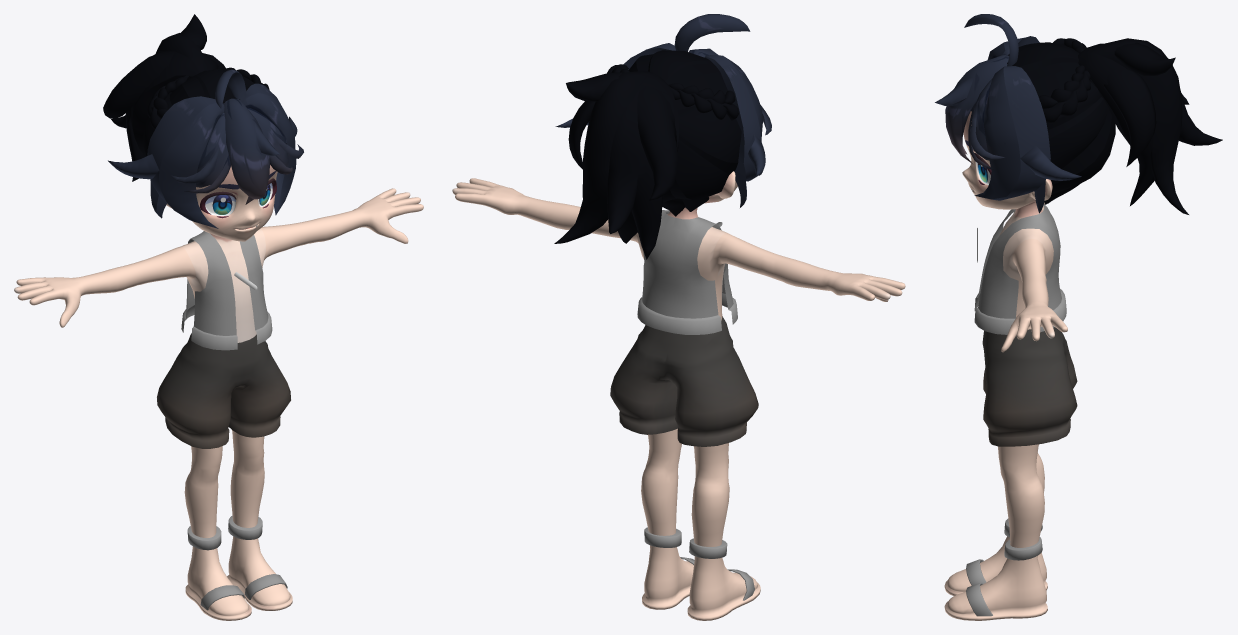
The model's file is character_ver2.fbx.
The picture shows the model from 3 angles, left to right: view 1: azimuth 30°, elevation 25°; view 2: azimuth 150°, elevation 25°; view 3: azimuth 270°, elevation 25°; orthographic projection. The views are drawn at different scales.
Parts seen in each view (by area): view 1: skin_base, hair, Object003, shirts, Box004, shoes_acc, Box005, Box001, Cylinder002, face, Object005; view 2: skin_base, Object003, Box004, shirts, Box001, hair, Box005, Cylinder002, shoes_acc, Box006, Group37150; view 3: skin_base, hair, Object003, Box001, Box004, shirts, Group37150, Cylinder002, shoes_acc, Box006.
Boxes of the visible parts, left/top/right/bottom form: skin_base: left=14, top=165, right=423, bottom=620; hair: left=108, top=69, right=303, bottom=228; Object003: left=157, top=333, right=290, bottom=448; shirts: left=181, top=231, right=272, bottom=350; Box004: left=111, top=33, right=218, bottom=181; shoes_acc: left=187, top=515, right=287, bottom=610; Box005: left=103, top=51, right=174, bottom=118; Box001: left=143, top=70, right=254, bottom=156; Cylinder002: left=147, top=67, right=269, bottom=129; face: left=200, top=171, right=276, bottom=227; Object005: left=132, top=76, right=189, bottom=156; skin_base: left=452, top=171, right=905, bottom=620; Object003: left=610, top=316, right=758, bottom=446; Box004: left=554, top=71, right=678, bottom=259; shirts: left=637, top=210, right=737, bottom=334; Box001: left=629, top=50, right=741, bottom=202; hair: left=555, top=14, right=771, bottom=207; Box005: left=637, top=85, right=677, bottom=200; Cylinder002: left=607, top=64, right=738, bottom=120; shoes_acc: left=644, top=527, right=754, bottom=600; Box006: left=566, top=72, right=622, bottom=101; Group37150: left=568, top=101, right=595, bottom=169; skin_base: left=944, top=107, right=1067, bottom=620; hair: left=935, top=14, right=1081, bottom=213; Object003: left=982, top=327, right=1077, bottom=446; Box001: left=1007, top=42, right=1115, bottom=194; Box004: left=1078, top=38, right=1222, bottom=214; shirts: left=974, top=204, right=1066, bottom=334; Group37150: left=1104, top=69, right=1156, bottom=166; Cylinder002: left=1038, top=38, right=1090, bottom=123; shoes_acc: left=966, top=518, right=1042, bottom=616; Box006: left=1114, top=42, right=1175, bottom=75.
Bounding box in the file's own units: 0.652 × 0.3705 × 0.8165.
